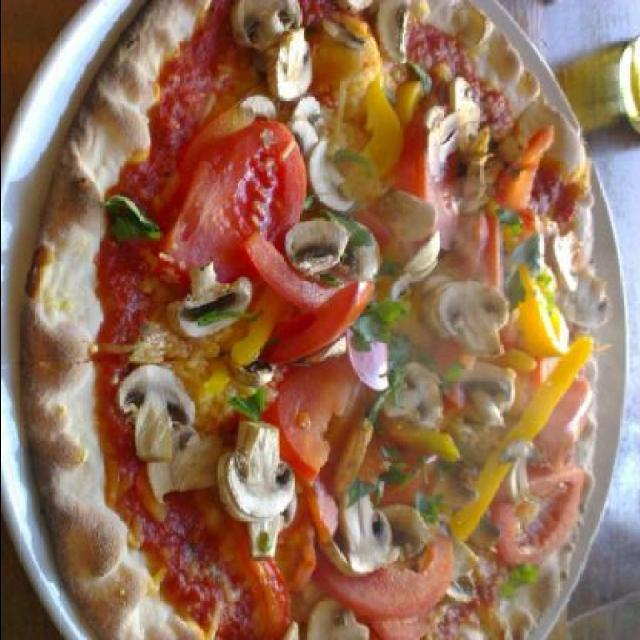Pizza: (29, 0, 604, 638)
